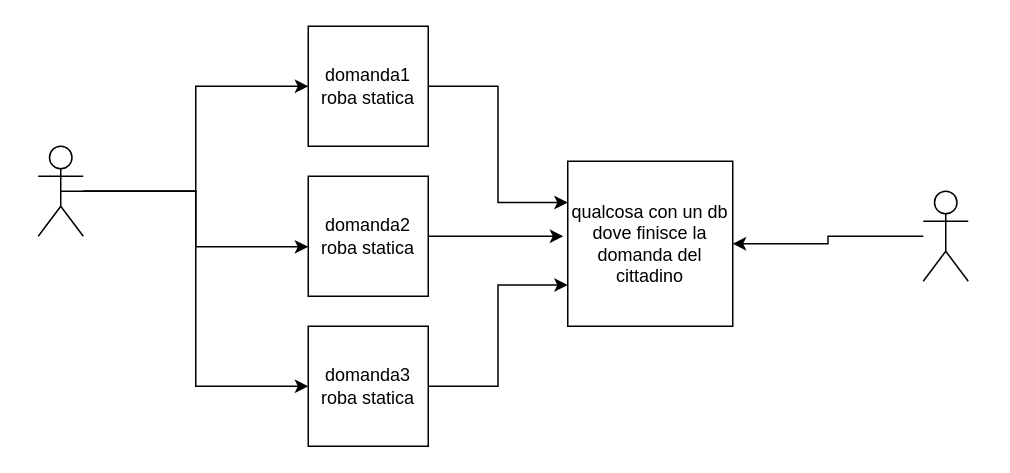
Some shapes in this 1010 by 473 pixel diagram are drawn without their labels. Here are the shapes that lost their labels. From the top down, the centre of each, then its label:
the point at 60,190: Cittadino
the point at 945,235: operatore
